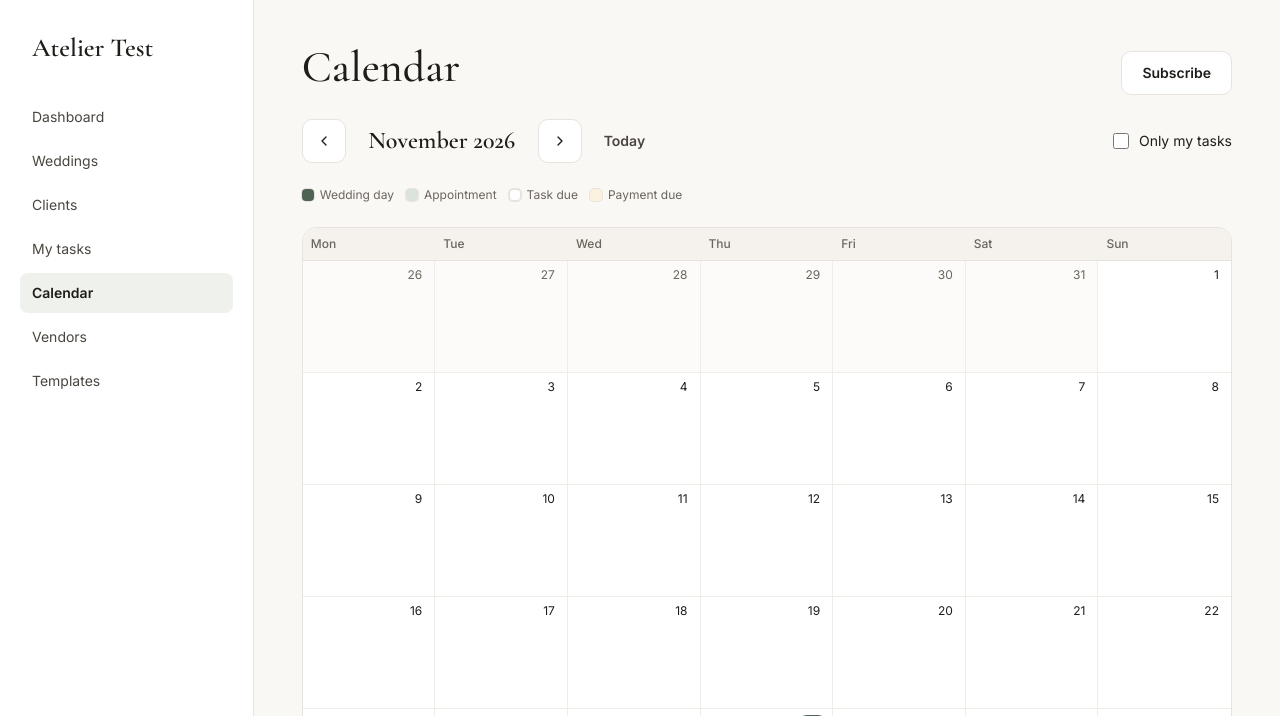
Test: creates a private subscription link and shows it once
Step 1. Click the button "Subscribe" → (1177, 73), box [1121, 51, 1232, 95]
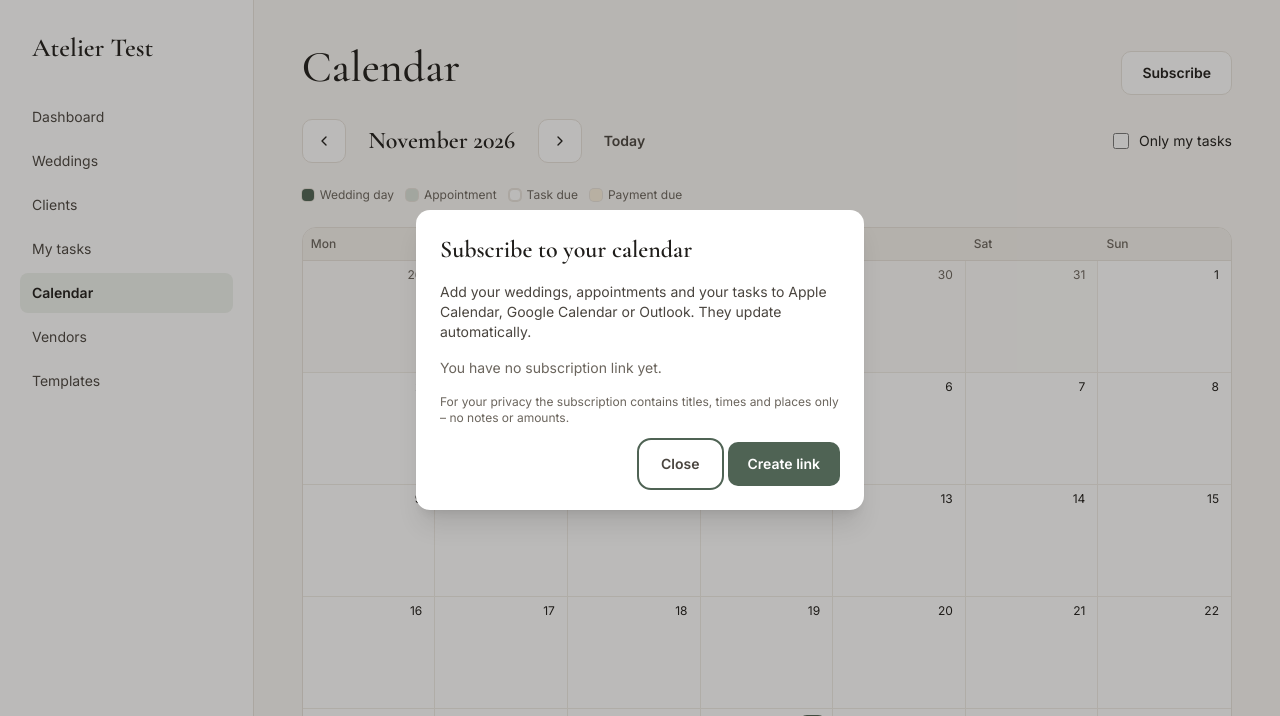
Check: the text "You have no subscription link yet." is shown, box [440, 359, 662, 376]
Step 2. Click the button "Create link" → (784, 464), box [728, 442, 840, 486]
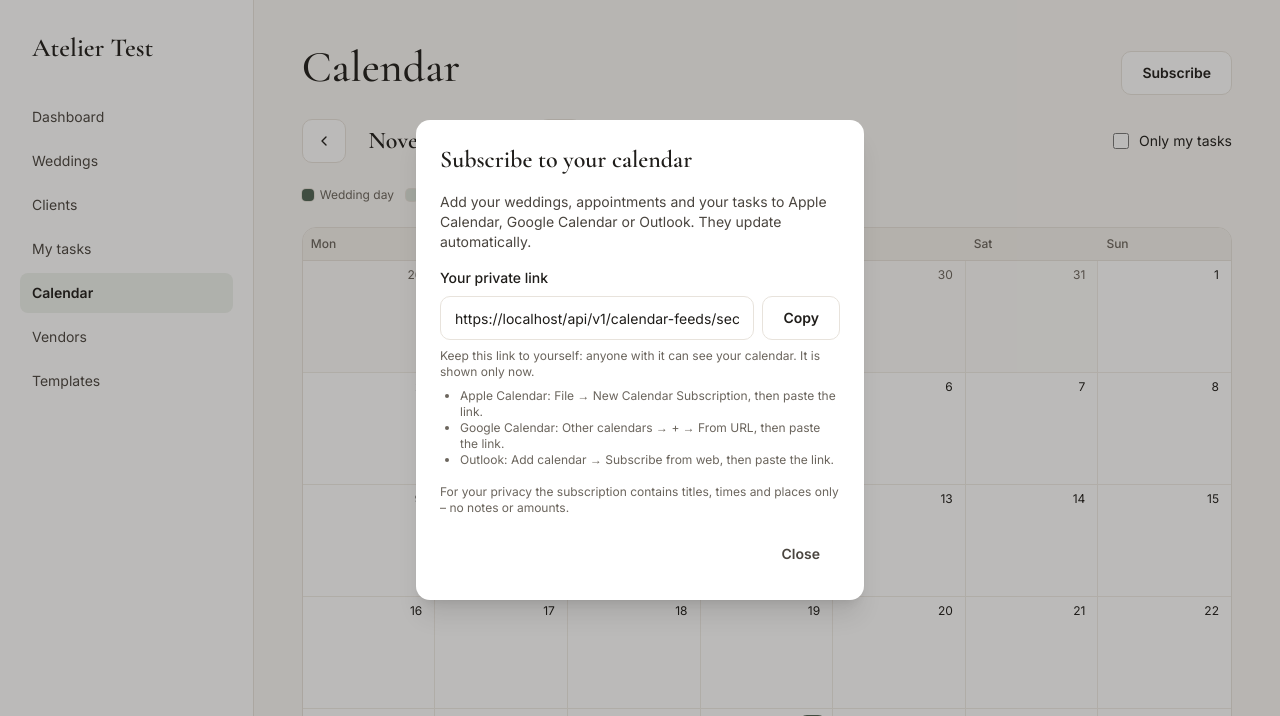
Check: the text "no notes or amounts" is shown, box [440, 484, 839, 515]
Check: the field labelled "Your private link" holds "https://localhost/api/v1/calendar-feeds/secret.ics", box [440, 296, 754, 340]
